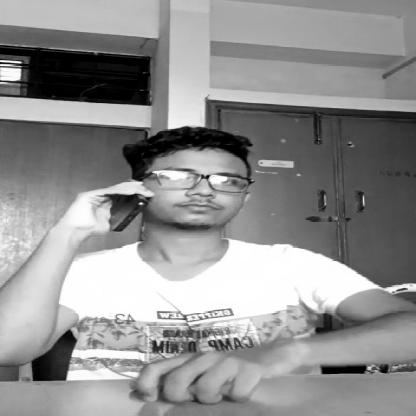Normal: (117, 133, 258, 227)
